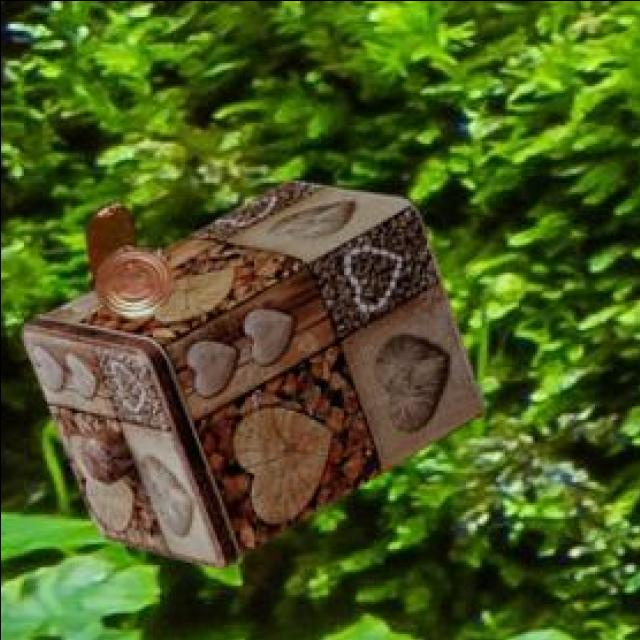logam: (24, 176, 487, 565), (91, 199, 176, 314)
